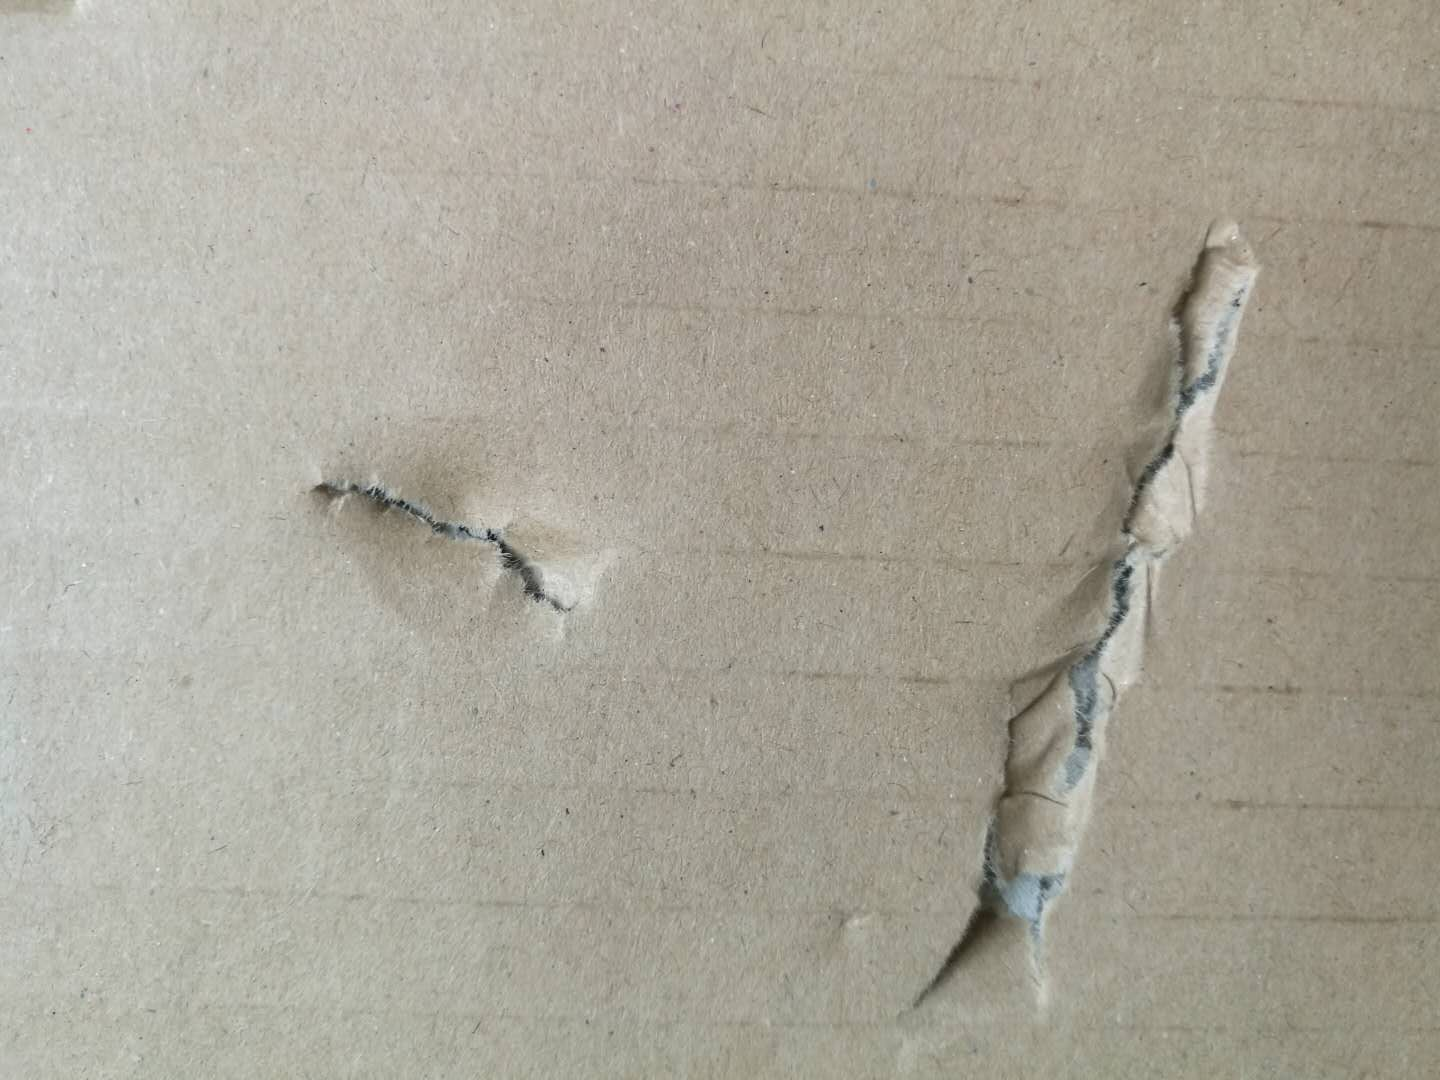defect: (829, 186, 1296, 1062), (280, 420, 659, 678)
